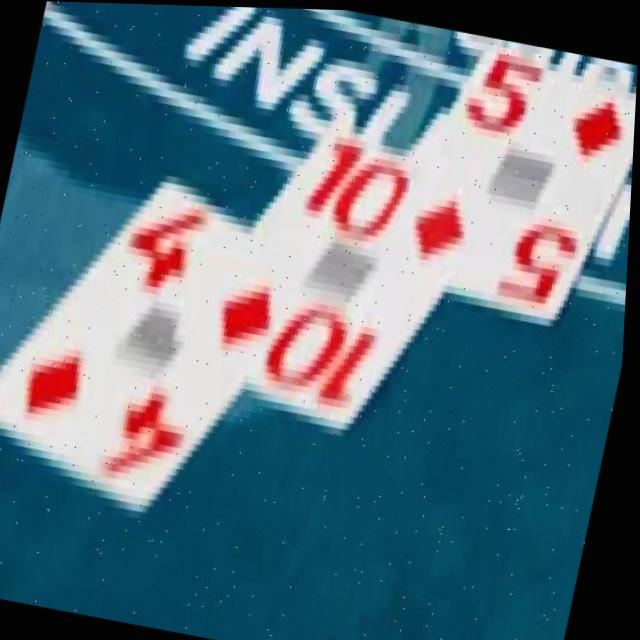Card-10: (184, 120, 445, 429)
Card-4: (0, 175, 253, 510)
Card-5: (387, 39, 637, 317)
